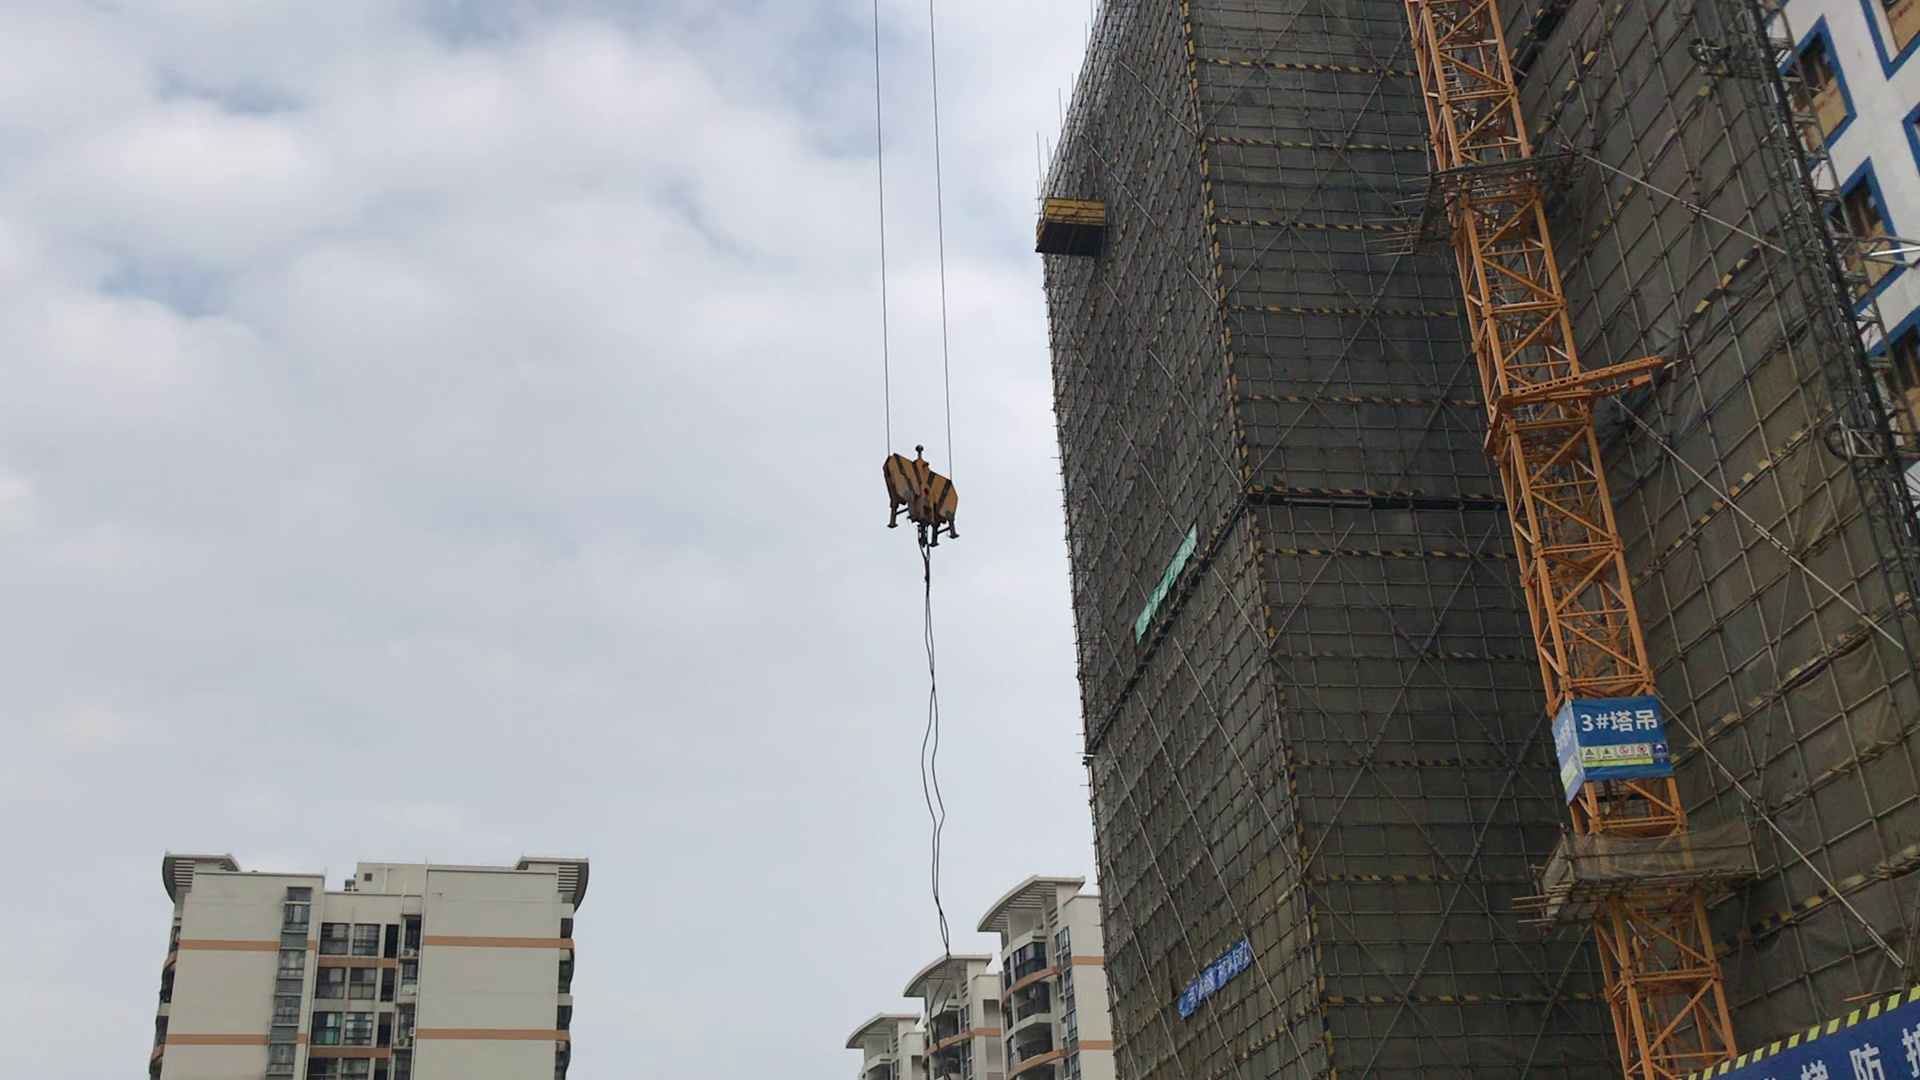hook: (868, 439, 978, 556)
slogan: (1139, 524, 1197, 640), (1172, 948, 1253, 1022)
